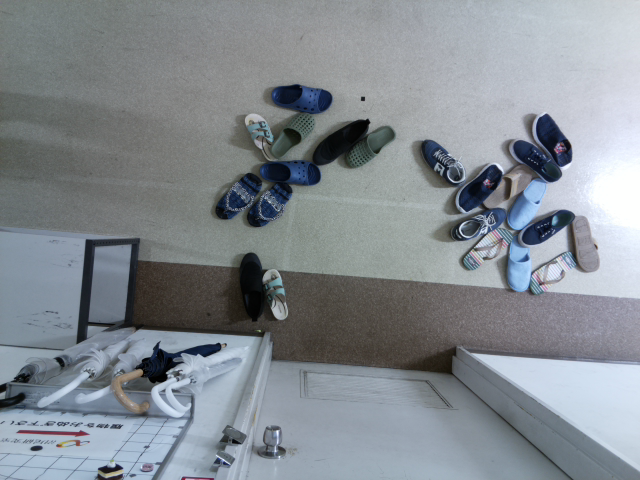Copy of Copy of Copy of Copy of Copy of Copy of Copy of Copy of Copy of Copy of: (303, 111, 375, 170), (263, 73, 341, 117), (209, 165, 264, 225), (242, 174, 297, 234), (564, 208, 610, 277), (523, 246, 583, 298), (264, 107, 320, 160), (339, 121, 398, 171), (497, 232, 540, 299), (239, 105, 283, 167), (254, 153, 327, 188), (516, 205, 574, 247)
Copy of Copy of Copy of Copy of Copy of Copy of Copy of Copy of Copy of shoe: (454, 219, 519, 274)
Copy of Copy of Copy of Copy of Copy of Copy of Copy of Copy of shoe: (501, 172, 551, 235)
Copy of Copy of Copy of Copy of Copy of Copy of Copy of shoe: (475, 157, 537, 211)
Copy of Copy of Copy of Copy of Copy of Copy of shoe: (443, 203, 516, 244)
Copy of Copy of Copy of Copy of Copy of shoe: (448, 159, 508, 212)
Copy of Copy of Copy of Copy of shoe: (503, 131, 567, 186)
Copy of Copy of Copy of shoe: (527, 104, 582, 172)
Copy of Copy of shoe: (415, 133, 469, 189)
Copy of shoe: (260, 260, 293, 324)
shoe: (234, 248, 272, 326)
umbrella: (1, 322, 139, 414), (33, 326, 158, 411), (107, 335, 234, 416), (145, 336, 254, 419), (74, 322, 173, 413), (163, 347, 252, 417)
